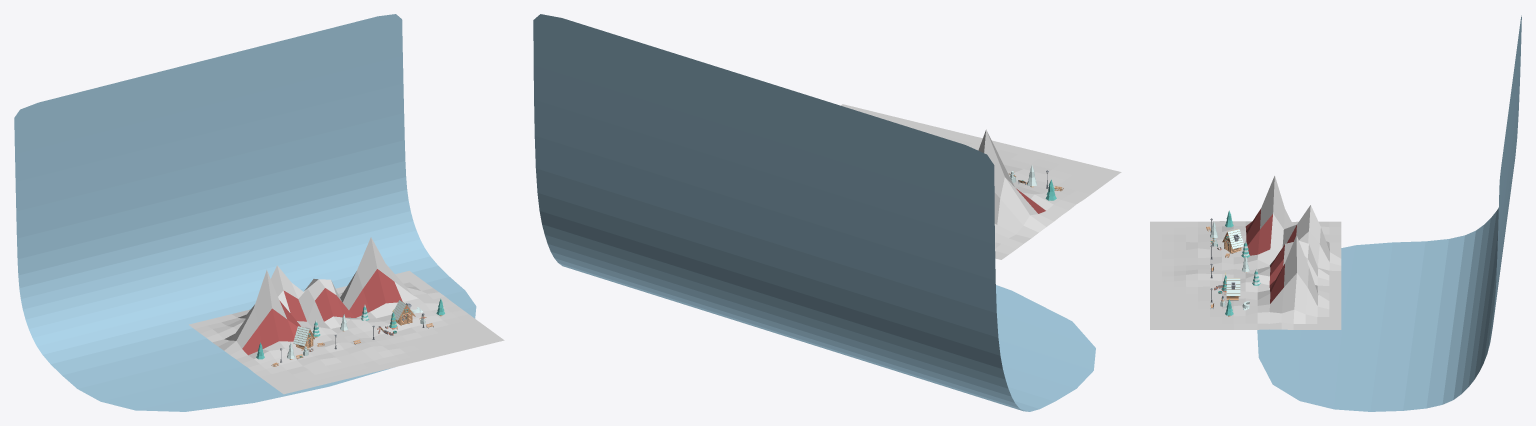
Rendered from mapaNavidad.fbx.
The picture shows the model from 3 angles, left to right: view 1: azimuth 30°, elevation 25°; view 2: azimuth 150°, elevation 25°; view 3: azimuth 270°, elevation 25°; orthographic projection. The views are drawn at different scales.
Visible parts, largest first — view 1: Plane, Sahne; view 2: Plane, Sahne; view 3: Plane, Sahne, lightsMulti2.
Boxes of the visible parts, left/top/right/bottom form: Plane: left=14, top=14, right=476, bottom=411; Sahne: left=189, top=237, right=504, bottom=394; Plane: left=533, top=14, right=1095, bottom=411; Sahne: left=841, top=104, right=1121, bottom=259; Plane: left=1257, top=15, right=1521, bottom=411; Sahne: left=1150, top=175, right=1341, bottom=329; lightsMulti2: left=1222, top=229, right=1243, bottom=253.
Size of the model in its own units: 3638 by 2272 by 3083.
